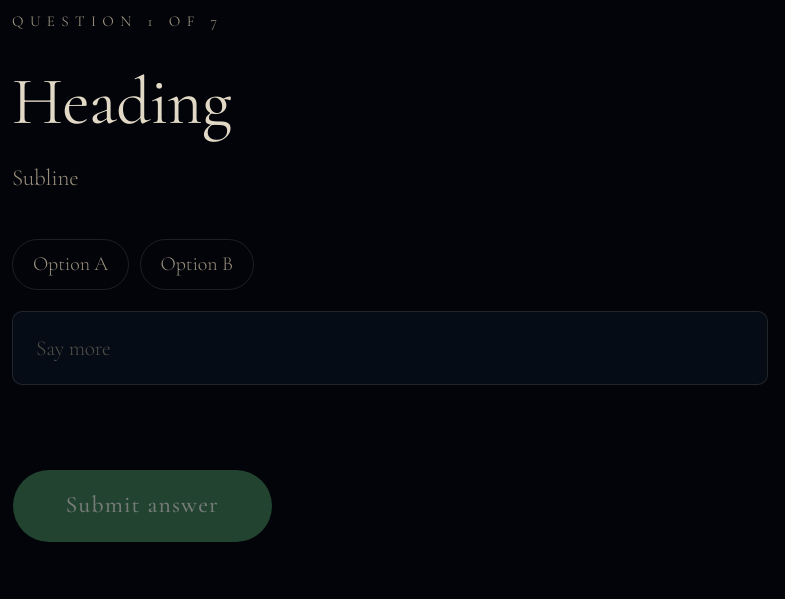
Test: RegistrationQuestionStep › accepts free text as the answer and shows its reply
Type "something else" into the field with placeholder "Say more".
click(390, 348); type("something else")  # box [12, 311, 768, 385]
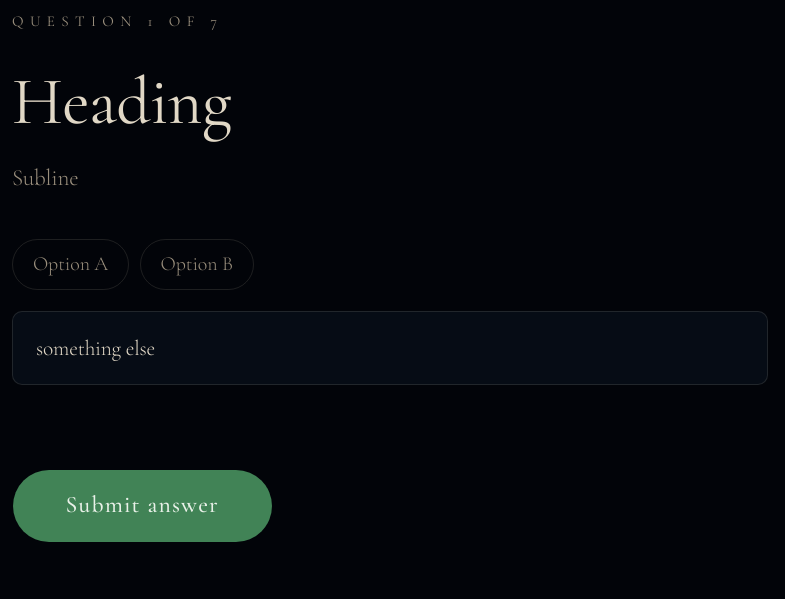
Result: the button "Submit answer" is enabled
Click the button "Submit answer".
click(142, 506)  # box [12, 469, 272, 542]
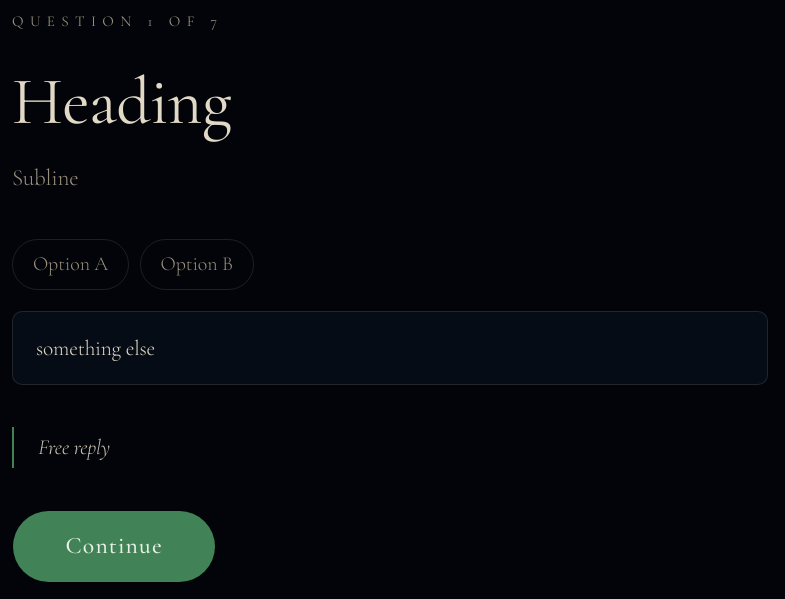
Result: the text "Free reply" is shown at [38, 434, 110, 460]
